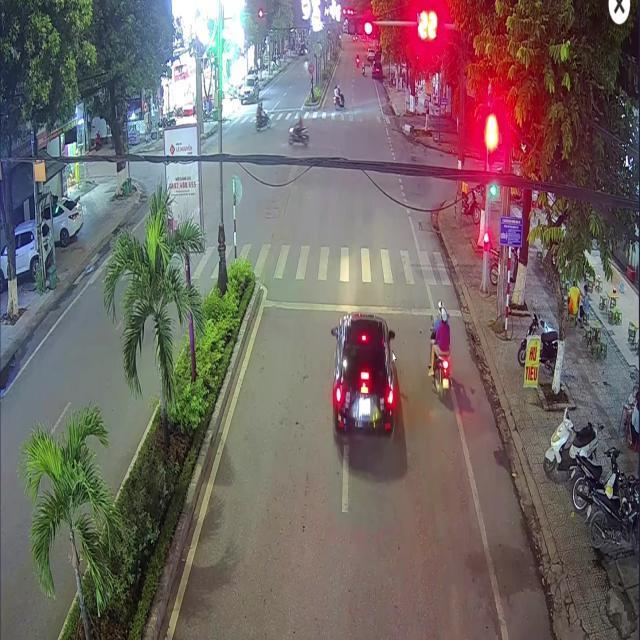car: (330, 312, 393, 432)
motobike: (430, 302, 450, 398)
red_light: (345, 17, 372, 35), (486, 133, 495, 167), (483, 232, 487, 251)
stop_line: (263, 299, 463, 316)
